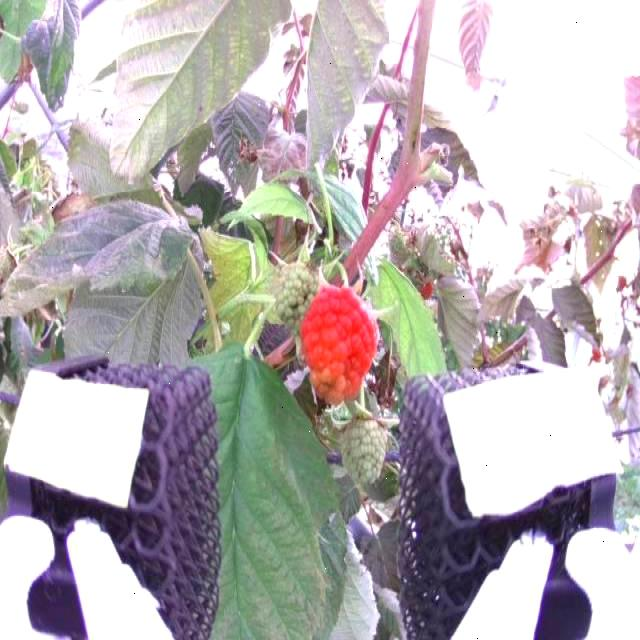Riped berries: (298, 282, 379, 406)
